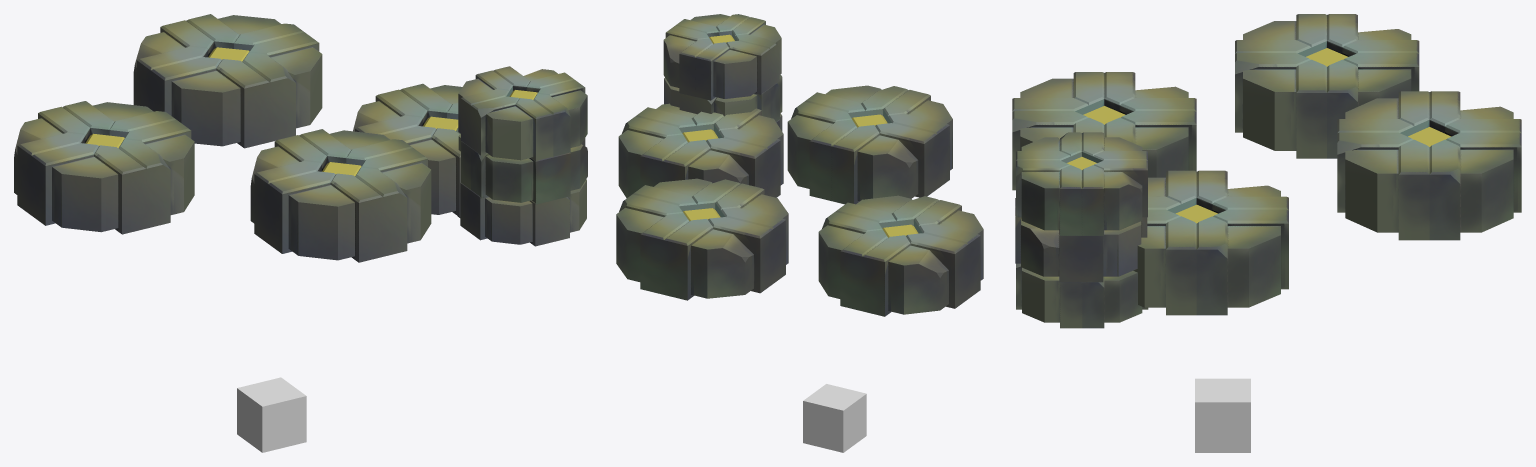
The model's file is home-floor008.fbx.
3 views of the same model, side by side, from view 1: azimuth 30°, elevation 25°; view 2: azimuth 150°, elevation 25°; view 3: azimuth 270°, elevation 25° (orthographic). The views are drawn at different scales.
Visible parts, largest first — view 1: Plane.014, Plane.015, Plane.016, Plane.013, Plane.009, Plane.012, Plane.010, home-floor008; view 2: Plane.016, Plane.015, Plane.014, Plane.009, Plane.013, home-floor008, Plane.012; view 3: Plane.016, Plane.015, Plane.009, Plane.014, Plane.013, Plane.012, Plane.010, home-floor008.
Part boxes in pixels (x1=…): Plane.014: x1=250, y1=129, x2=431, y2=262; Plane.015: x1=14, y1=101, x2=194, y2=234; Plane.016: x1=133, y1=14, x2=322, y2=148; Plane.013: x1=458, y1=66, x2=587, y2=160; Plane.009: x1=353, y1=83, x2=462, y2=217; Plane.012: x1=458, y1=133, x2=587, y2=204; Plane.010: x1=457, y1=179, x2=586, y2=246; home-floor008: x1=237, y1=377, x2=306, y2=452; Plane.016: x1=616, y1=178, x2=788, y2=300; Plane.015: x1=818, y1=195, x2=983, y2=316; Plane.014: x1=787, y1=85, x2=952, y2=204; Plane.009: x1=618, y1=103, x2=783, y2=198; Plane.013: x1=663, y1=14, x2=781, y2=100; home-floor008: x1=803, y1=384, x2=866, y2=452; Plane.012: x1=664, y1=74, x2=782, y2=121; Plane.016: x1=1337, y1=91, x2=1521, y2=240; Plane.015: x1=1235, y1=14, x2=1419, y2=158; Plane.009: x1=1133, y1=170, x2=1288, y2=315; Plane.014: x1=1012, y1=72, x2=1196, y2=190; Plane.013: x1=1016, y1=132, x2=1147, y2=235; Plane.012: x1=1015, y1=198, x2=1147, y2=282; Plane.010: x1=1016, y1=263, x2=1148, y2=328; home-floor008: x1=1195, y1=378, x2=1250, y2=452.
Size of the model in its own units: 1102 by 849 by 1027.
